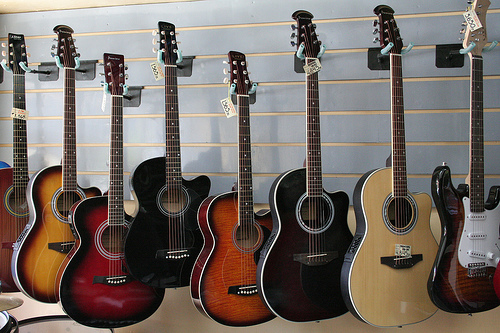guitar: (342, 4, 443, 329), (257, 5, 357, 323), (57, 52, 168, 329), (189, 47, 276, 329), (125, 17, 212, 289), (14, 20, 93, 305)
